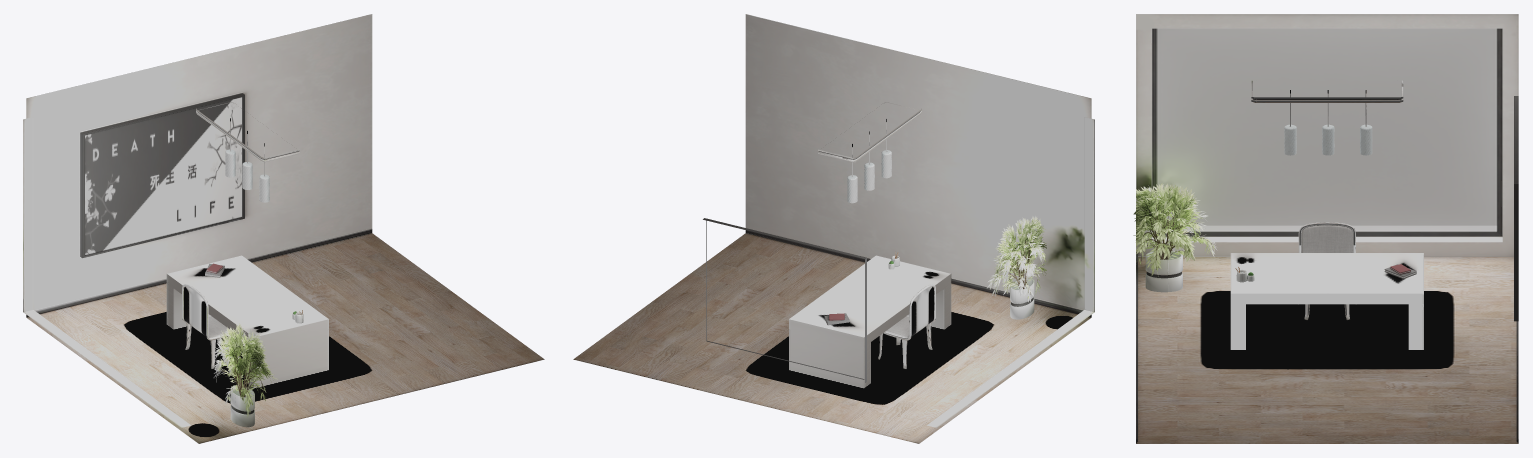
The model's file is office_lite.glb.
3 renders of one model, left to right at view 1: azimuth 30°, elevation 25°; view 2: azimuth 150°, elevation 25°; view 3: azimuth 270°, elevation 25°, orthographic. The views are drawn at different scales.
Visible parts, largest first — view 1: Window; view 2: Window; view 3: Window.
Part boxes in pixels (box(x1,y1,x2,y2)): Window: box(23, 14, 544, 443); Window: box(573, 14, 1094, 443); Window: box(1133, 14, 1518, 443).
Bounding box in the file's own units: 16.95 × 10.16 × 13.91.
11 materials, 11 textured.
